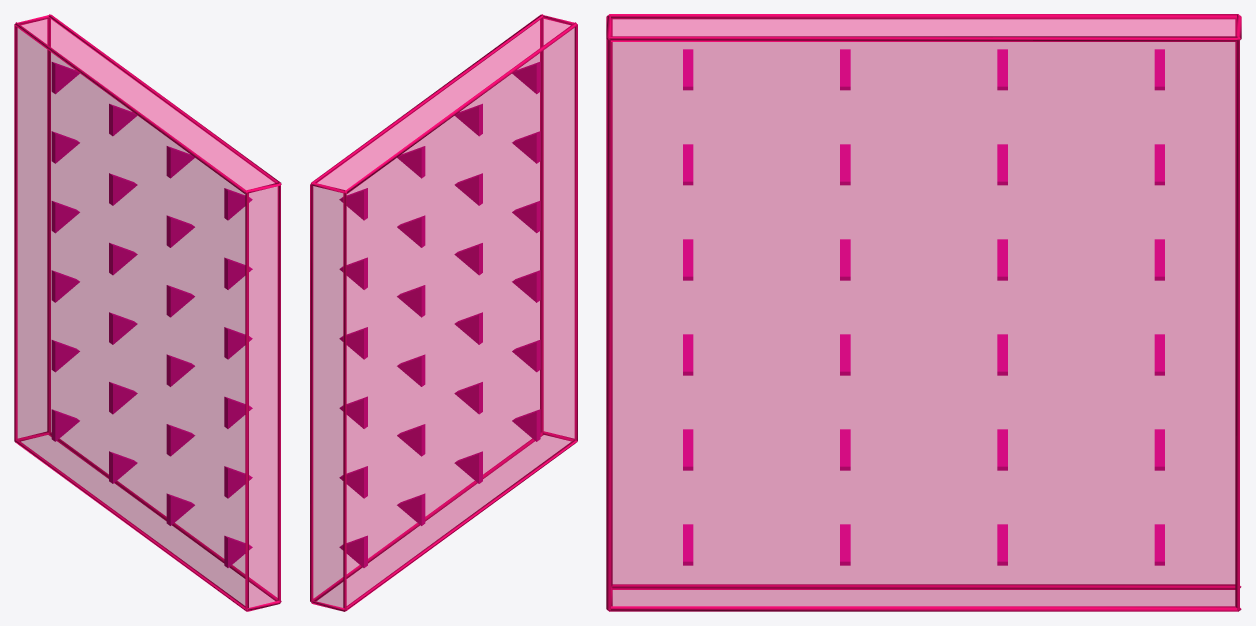
The model's file is Side_active.gltf.
3 views of the same model, side by side, from view 1: azimuth 30°, elevation 25°; view 2: azimuth 150°, elevation 25°; view 3: azimuth 270°, elevation 25° (orthographic). The views are drawn at different scales.
Visible parts, largest first — view 1: Cube (×2), Extrude 7, Extrude 8, Extrude 9, Extrude 10, Extrude 6, Extrude 20, Extrude 22, Extrude 18, Extrude 19, Extrude 11, Extrude 21 (+13 smaller); view 2: Cube (×2), Extrude 13, Extrude 15, Extrude 16, Extrude 0, Extrude 4, Extrude 12, Extrude 14, Extrude 17, Extrude 2, Extrude 3, Extrude 1 (+13 smaller); view 3: Cube (×2).
Part boxes in pixels (x1=…): Cube (×2): x1=14, y1=14, x2=281, y2=611; Extrude 7: x1=166, y1=424, x2=194, y2=456; Extrude 8: x1=166, y1=354, x2=194, y2=386; Extrude 9: x1=166, y1=285, x2=194, y2=317; Extrude 10: x1=166, y1=215, x2=194, y2=247; Extrude 6: x1=166, y1=493, x2=194, y2=525; Extrude 20: x1=51, y1=270, x2=79, y2=302; Extrude 22: x1=51, y1=131, x2=79, y2=163; Extrude 18: x1=51, y1=409, x2=79, y2=441; Extrude 19: x1=51, y1=340, x2=79, y2=372; Extrude 11: x1=166, y1=146, x2=194, y2=178; Extrude 21: x1=51, y1=201, x2=79, y2=233; Cube (×2): x1=310, y1=14, x2=577, y2=611; Extrude 13: x1=397, y1=424, x2=425, y2=456; Extrude 15: x1=397, y1=285, x2=425, y2=317; Extrude 16: x1=397, y1=215, x2=425, y2=247; Extrude 0: x1=512, y1=409, x2=540, y2=441; Extrude 4: x1=512, y1=131, x2=540, y2=163; Extrude 12: x1=397, y1=493, x2=425, y2=525; Extrude 14: x1=397, y1=354, x2=425, y2=386; Extrude 17: x1=397, y1=146, x2=425, y2=178; Extrude 2: x1=512, y1=270, x2=540, y2=302; Extrude 3: x1=512, y1=201, x2=540, y2=232; Extrude 1: x1=512, y1=340, x2=540, y2=371; Cube (×2): x1=606, y1=14, x2=1241, y2=611.
Size of the model in its own units: 5.6 by 60.6 by 60.6.
